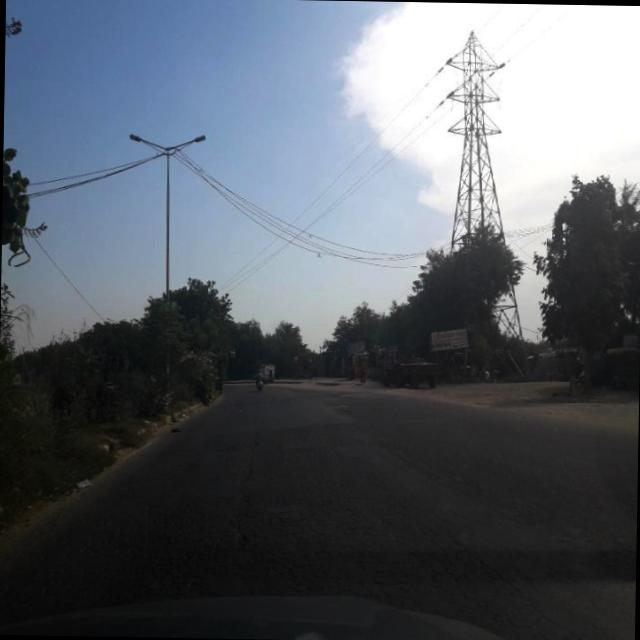crack: (31, 428, 556, 600)
pothole: (225, 406, 262, 549)
